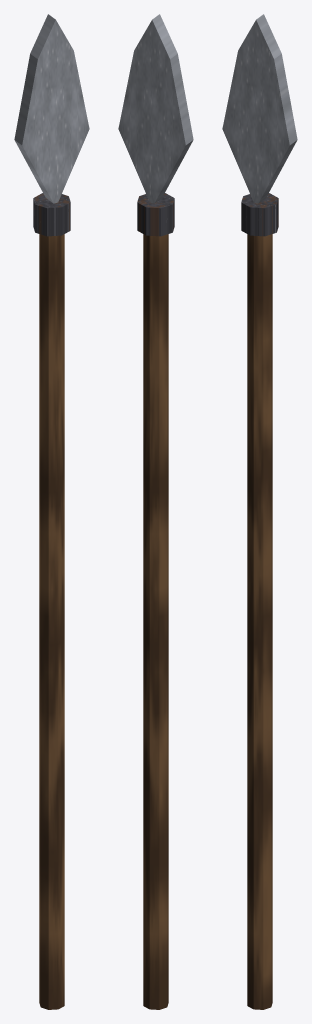
Rendered from rival_legion_spear.obj.
The picture shows the model from 3 angles, left to right: view 1: azimuth 30°, elevation 25°; view 2: azimuth 150°, elevation 25°; view 3: azimuth 330°, elevation 25°; orthographic projection.
Parts seen in each view (by area): view 1: rival_legion_spear; view 2: rival_legion_spear; view 3: rival_legion_spear.
Part boxes in pixels (x1,y1,x2,y2): rival_legion_spear: (14,14,89,1009); rival_legion_spear: (118,14,193,1009); rival_legion_spear: (222,14,297,1009).
Bounding box in the file's own units: 0.1876 × 2.62 × 0.0938.
